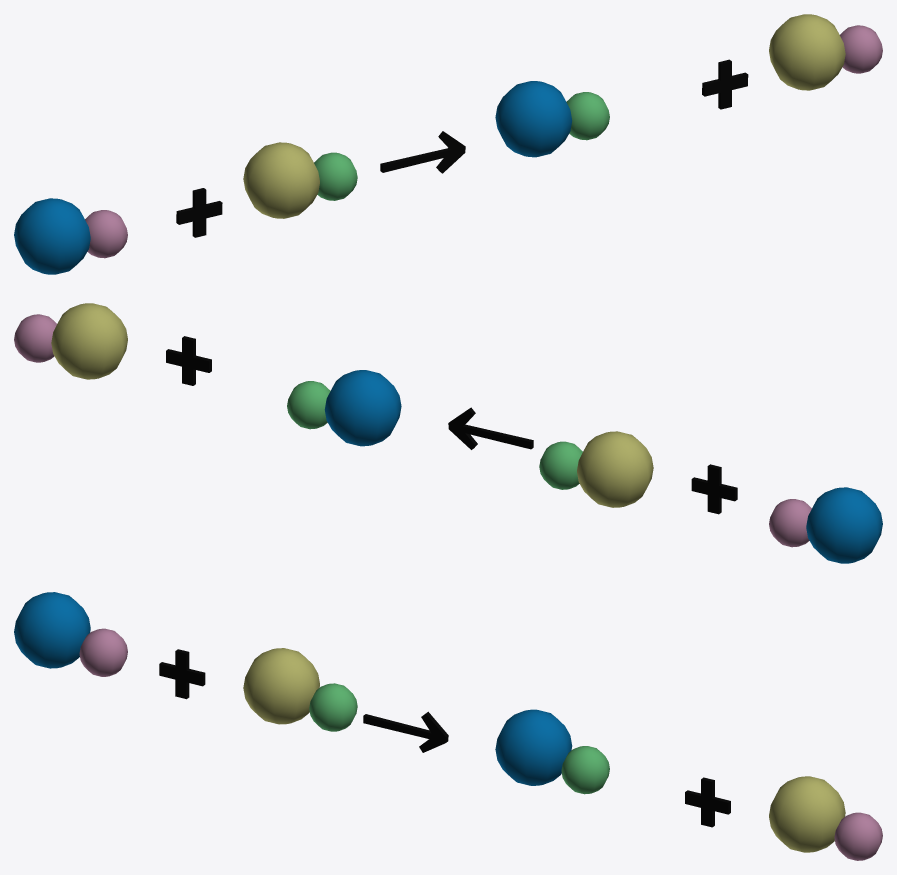
Rendered from dou_disp_formula.fbx.
3 renders of one model, top to bottom at view 1: azimuth 30°, elevation 25°; view 2: azimuth 150°, elevation 25°; view 3: azimuth 330°, elevation 25°, orthographic.
Parts seen in each view (by area): view 1: pSphere1, pSphere19, pSphere21, pSphere17, pSphere18, pSphere20, pSphere22, pSphere6, pCube6, pCube3, pCube5, pCube4 (+1 smaller); view 2: pSphere1, pSphere19, pSphere21, pSphere17, pSphere18, pSphere20, pSphere22, pSphere6, pCube6, pCube3, pCube5, pCube4 (+1 smaller); view 3: pSphere19, pSphere1, pSphere21, pSphere17, pSphere18, pSphere22, pSphere6, pSphere20, pCube6, pCube2, pCube3, pCube5 (+1 smaller).
Part boxes in pixels (bbox=[...]): pSphere1: bbox=[14, 198, 90, 274]; pSphere19: bbox=[495, 81, 572, 157]; pSphere21: bbox=[769, 14, 845, 90]; pSphere17: bbox=[243, 142, 319, 218]; pSphere18: bbox=[314, 152, 357, 200]; pSphere20: bbox=[566, 92, 609, 140]; pSphere22: bbox=[840, 25, 882, 73]; pSphere6: bbox=[85, 210, 127, 258]; pCube6: bbox=[380, 146, 465, 172]; pCube3: bbox=[176, 201, 222, 224]; pCube5: bbox=[718, 59, 731, 109]; pCube4: bbox=[702, 72, 748, 96]; pSphere1: bbox=[806, 487, 882, 563]; pSphere19: bbox=[324, 370, 401, 446]; pSphere21: bbox=[51, 303, 127, 379]; pSphere17: bbox=[577, 431, 653, 507]; pSphere18: bbox=[539, 441, 582, 489]; pSphere20: bbox=[287, 381, 330, 429]; pSphere22: bbox=[14, 314, 56, 362]; pSphere6: bbox=[769, 499, 811, 547]; pCube6: bbox=[448, 423, 533, 449]; pCube3: bbox=[691, 477, 737, 501]; pCube5: bbox=[182, 336, 195, 385]; pCube4: bbox=[166, 349, 211, 372]; pSphere19: bbox=[495, 709, 572, 785]; pSphere1: bbox=[14, 592, 90, 668]; pSphere21: bbox=[769, 776, 845, 852]; pSphere17: bbox=[243, 648, 319, 724]; pSphere18: bbox=[309, 683, 357, 731]; pSphere22: bbox=[834, 812, 882, 860]; pSphere6: bbox=[79, 628, 127, 676]; pSphere20: bbox=[561, 746, 609, 794]; pCube6: bbox=[363, 714, 448, 742]; pCube2: bbox=[175, 649, 189, 699]; pCube3: bbox=[159, 662, 205, 686]; pCube5: bbox=[701, 777, 714, 827].
Size of the model in its own units: 217 by 16.85 by 16.03.
